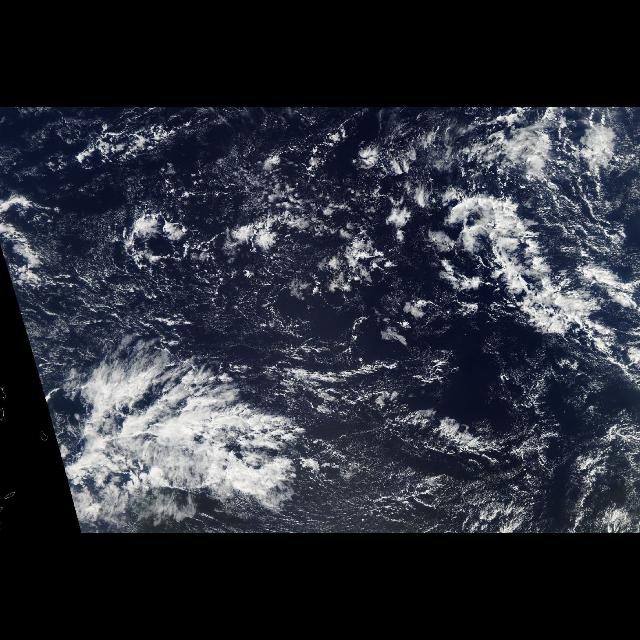Fish: (50, 352, 310, 532)
Gravel: (16, 112, 498, 382)
Sugar: (268, 400, 636, 530), (23, 283, 300, 357), (532, 170, 638, 276)
